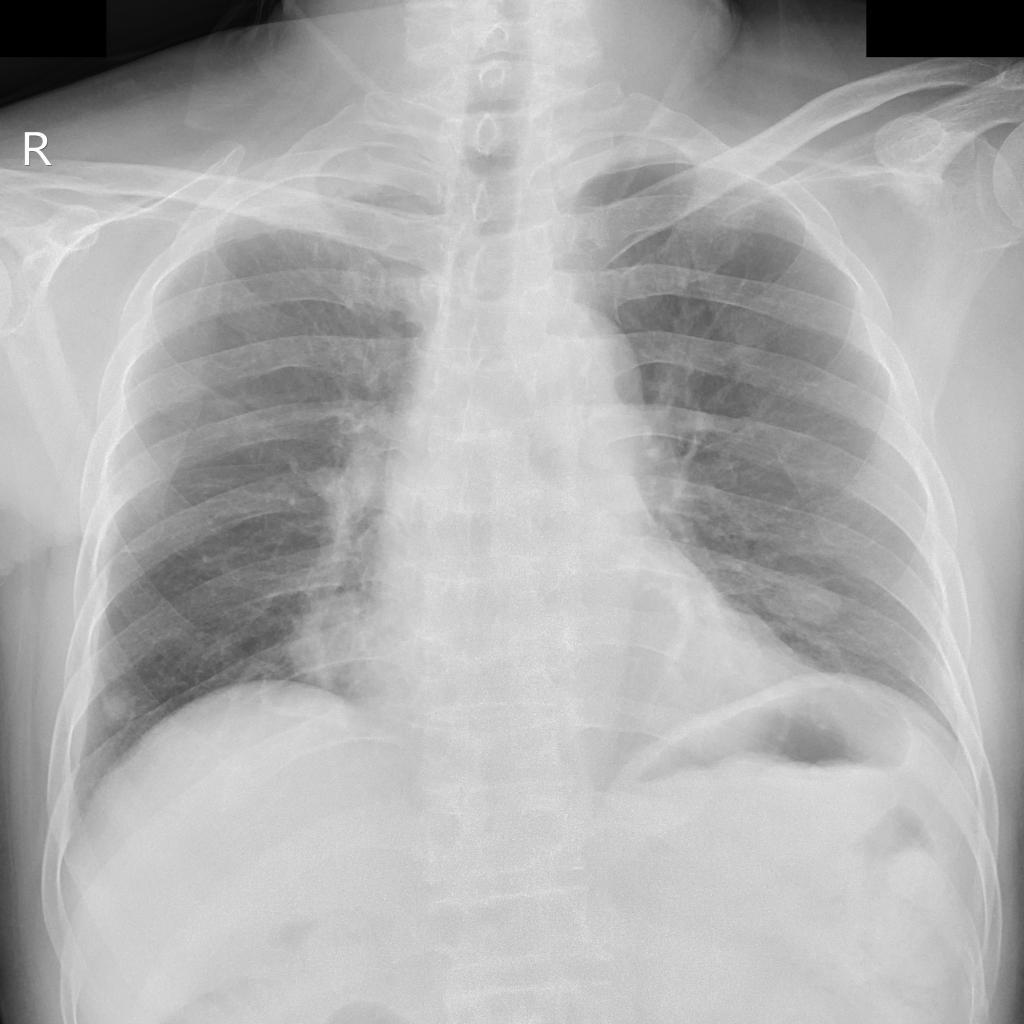Nodule: (768, 576, 844, 625), (101, 691, 137, 724), (733, 324, 760, 347)
